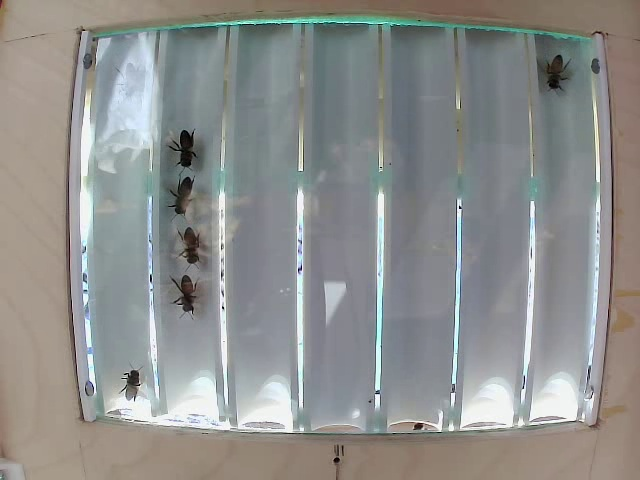bee: (167, 272, 219, 319), (543, 42, 581, 103), (163, 123, 207, 163), (174, 234, 206, 278), (162, 180, 199, 217)
